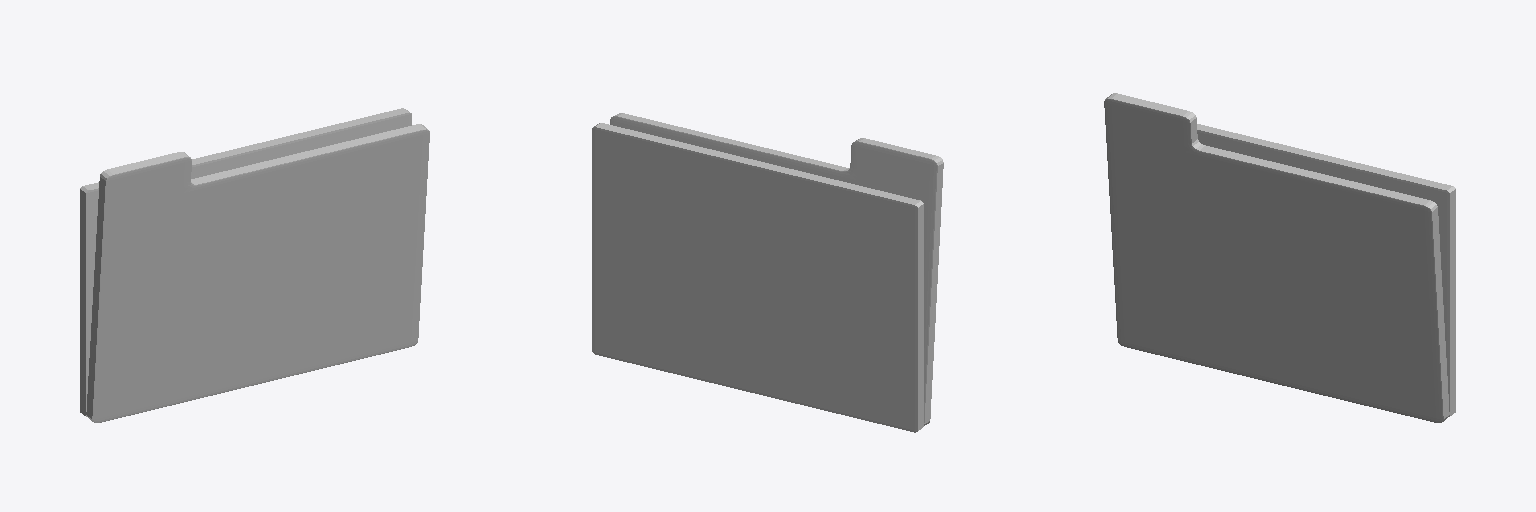
Rendered from folder.obj.
The picture shows the model from 3 angles: view 1: azimuth 30°, elevation 25°; view 2: azimuth 150°, elevation 25°; view 3: azimuth 330°, elevation 25°; orthographic projection.
Parts seen in each view (by area): view 1: folder_Cube; view 2: folder_Cube; view 3: folder_Cube.
Boxes of the visible parts, box(x1,y1,x2,y2) form: folder_Cube: box(80, 108, 429, 422); folder_Cube: box(592, 113, 943, 432); folder_Cube: box(1104, 93, 1455, 422).
Size of the model in its own units: 6 by 4.56 by 0.8342.